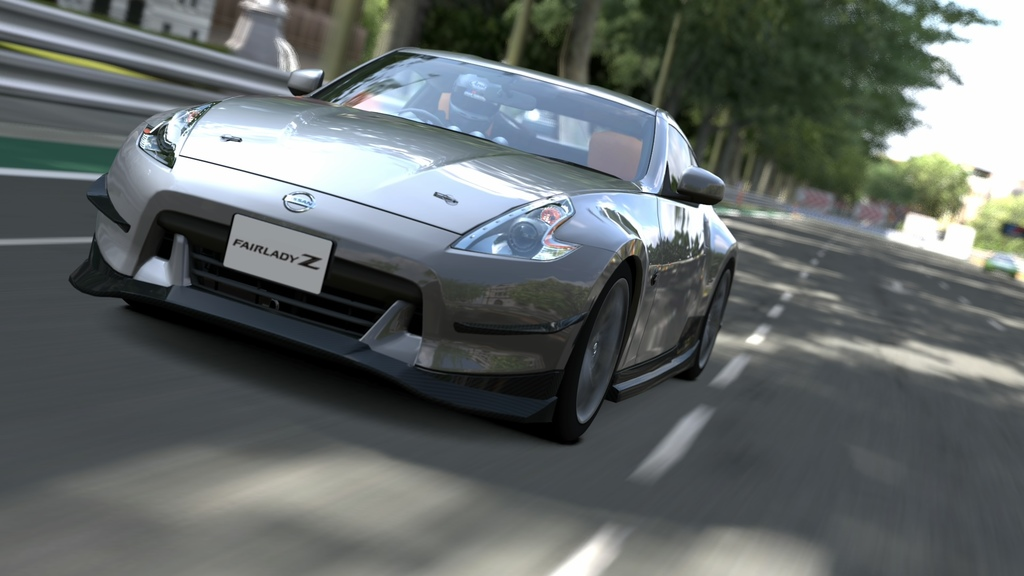Car: (68, 47, 738, 441)
